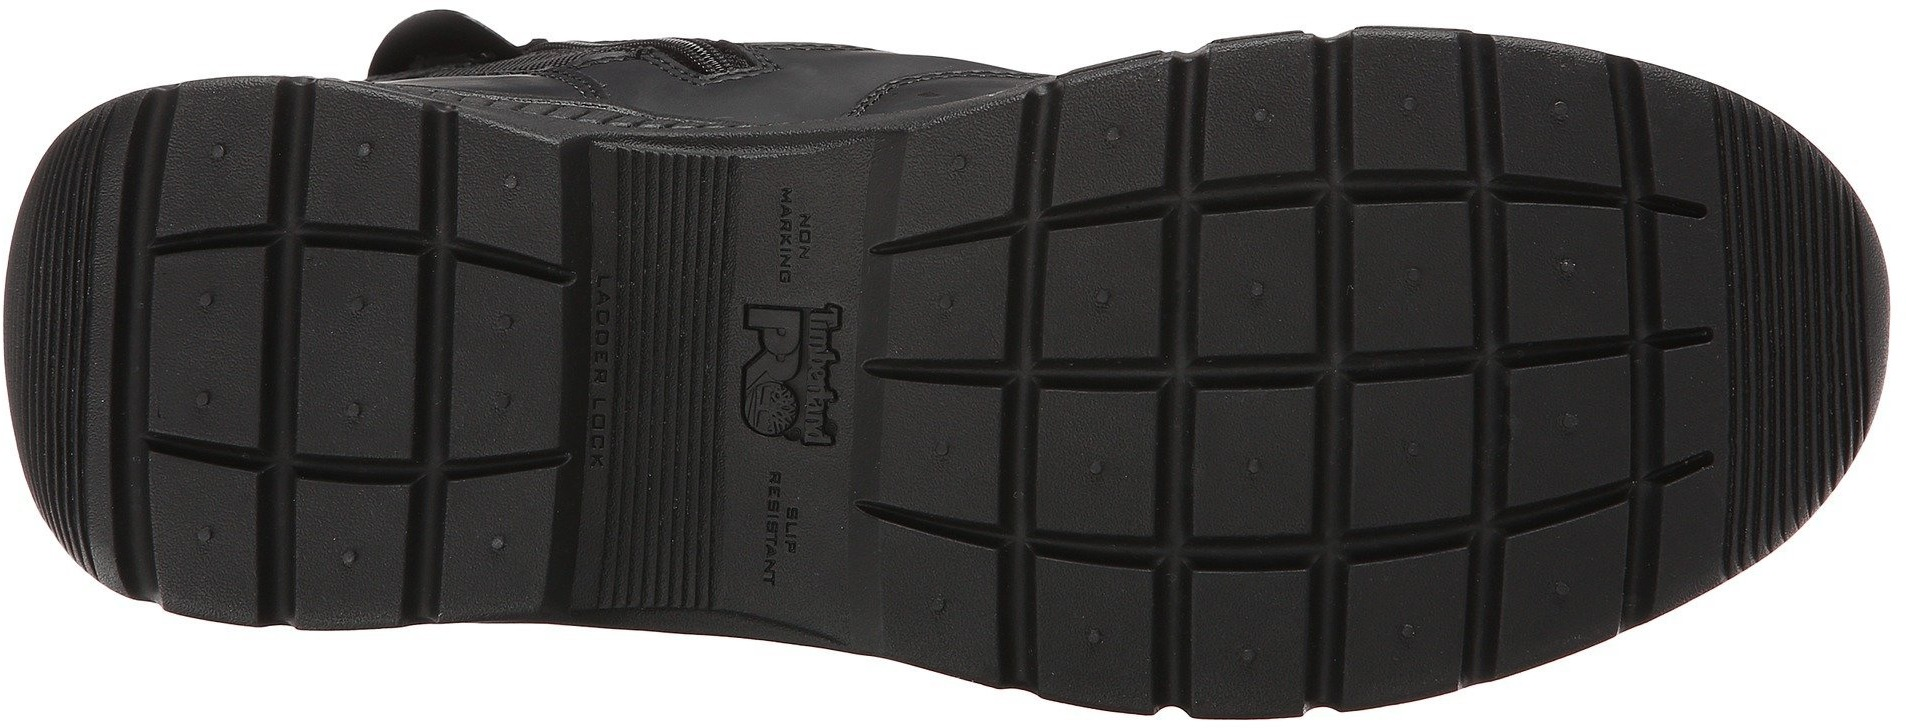exclude: (532, 112, 757, 664), (310, 0, 1107, 143)
other: (1729, 208, 1860, 342), (1724, 352, 1853, 469), (17, 252, 102, 365)
quad: (1387, 294, 1676, 546), (171, 94, 430, 342), (165, 355, 427, 598), (1129, 89, 1376, 329), (1383, 70, 1647, 288), (884, 385, 1113, 623), (1127, 337, 1377, 548), (889, 146, 1118, 369)
text: (760, 196, 858, 284), (786, 374, 865, 448), (786, 294, 856, 367), (755, 472, 813, 534), (752, 540, 811, 594)
